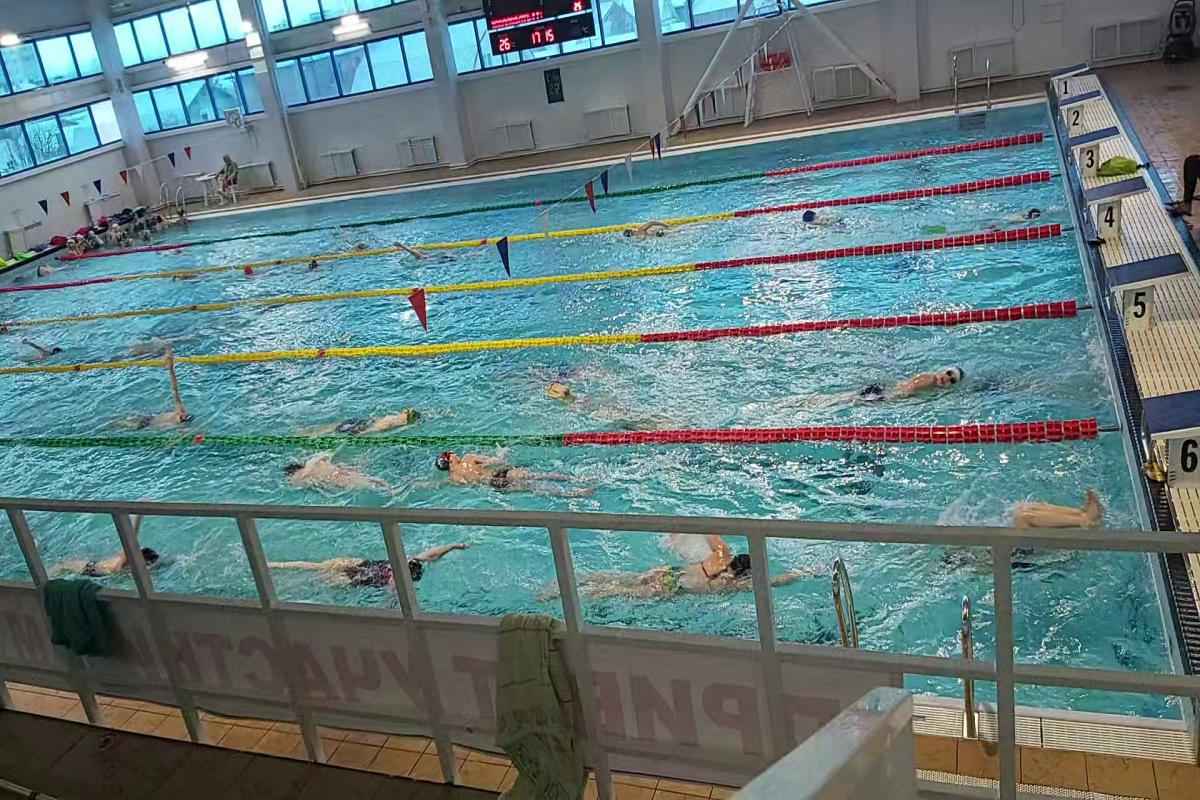swimmer: (580, 542, 748, 617), (782, 350, 976, 414), (424, 444, 594, 503), (274, 541, 397, 599), (110, 369, 202, 425), (273, 459, 404, 498), (314, 400, 427, 431), (794, 207, 866, 231), (619, 218, 683, 243), (19, 332, 70, 363), (993, 201, 1046, 223)
